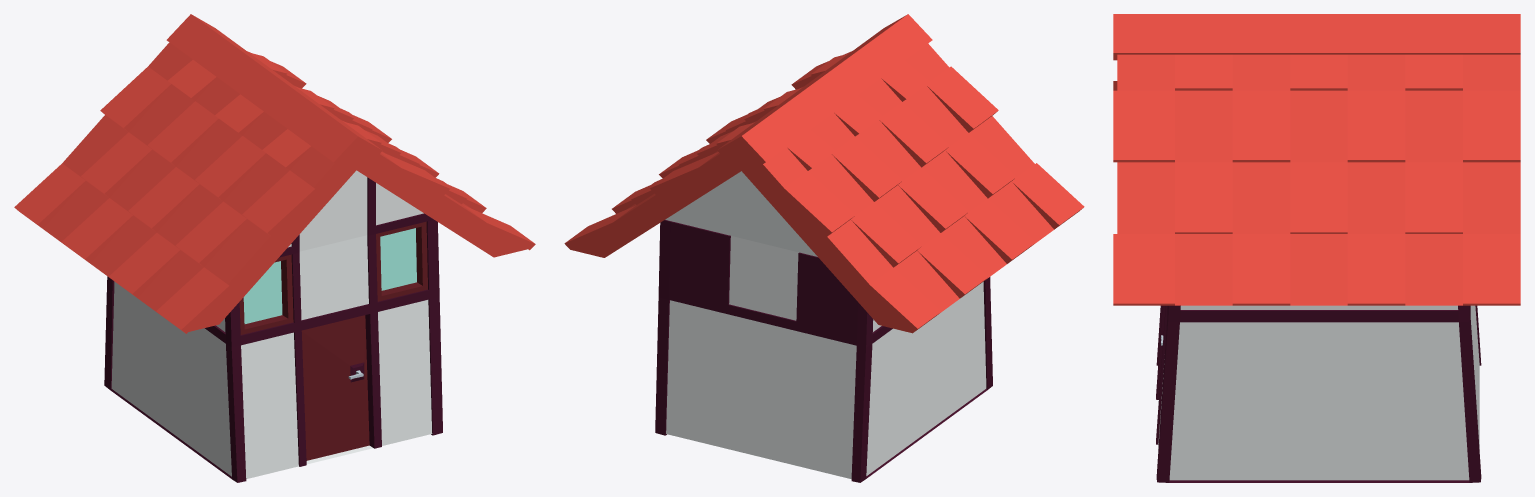
Rendered from CasaSB.fbx.
3 views of the same model, side by side, from view 1: azimuth 30°, elevation 25°; view 2: azimuth 150°, elevation 25°; view 3: azimuth 270°, elevation 25° (orthographic). The views are drawn at different scales.
Visible parts, largest first — view 1: Casa1; view 2: Casa1; view 3: Casa1.
Boxes of the visible parts, left/top/right/bottom form: Casa1: left=14, top=14, right=535, bottom=482; Casa1: left=564, top=14, right=1084, bottom=482; Casa1: left=1113, top=14, right=1520, bottom=482.
Bounding box in the file's own units: 4.02 × 3.64 × 3.29.
